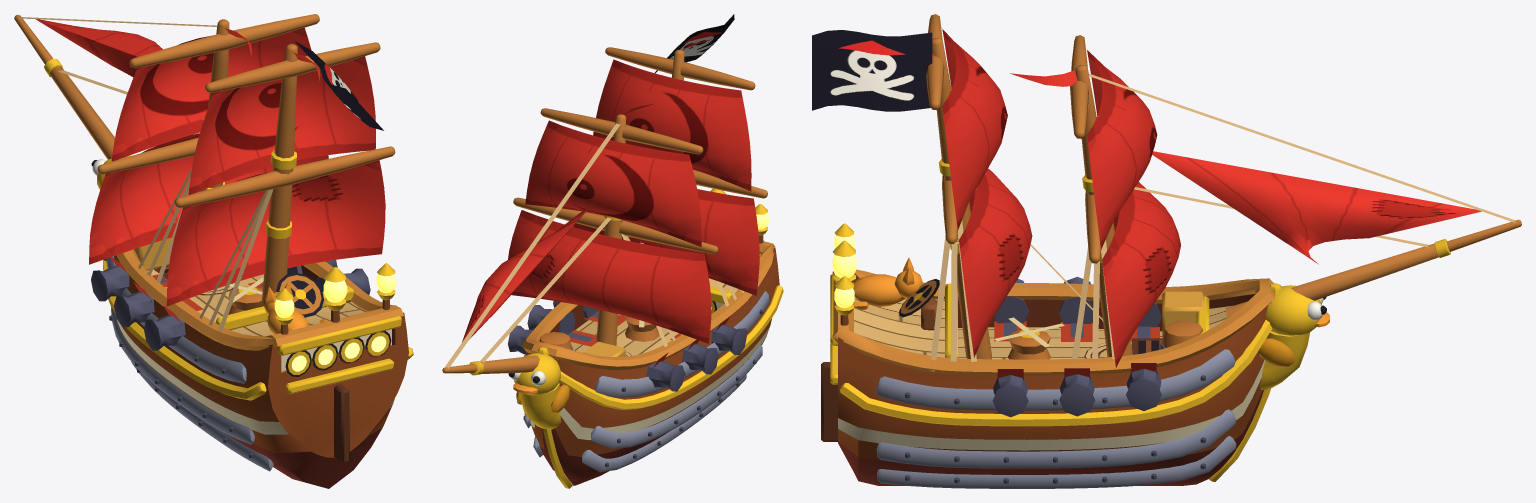
Rendered from player_brigantine.glb.
3 renders of one model, left to right at view 1: azimuth 30°, elevation 25°; view 2: azimuth 150°, elevation 25°; view 3: azimuth 270°, elevation 25°, orthographic. The views are drawn at different scales.
Parts seen in each view (by area): view 1: Hull, Rigging, Sail1_0, Sail1_1, Sail0_1, Sail0_0, Guns3, Plating3, Jib, Plating2, Flag, Plating1; view 2: Hull, Sail0_0, Sail0_1, Rigging, Sail1_1, Sail1_0, Guns3, Plating3, Jib, Plating2, Plating1, Flag (+1 smaller); view 3: Hull, Rigging, Jib, Plating3, Flag, Sail0_0, Sail1_0, Sail0_1, Sail1_1, Plating2, Guns3, Plating1 (+1 smaller).
Part boxes in pixels (x1,y1,x2,y2): Hull: (91, 155, 413, 488); Rigging: (14, 14, 395, 341); Sail1_0: (166, 160, 385, 306); Sail1_1: (188, 56, 375, 195); Sail0_1: (111, 28, 311, 161); Sail0_0: (89, 133, 328, 264); Guns3: (91, 260, 370, 350); Plating3: (104, 256, 273, 471); Jib: (36, 19, 162, 77); Plating2: (109, 316, 268, 466); Flag: (295, 41, 383, 130); Plating1: (109, 307, 251, 442); Hull: (508, 188, 783, 488); Sail0_0: (508, 210, 711, 343); Sail0_1: (525, 120, 701, 247); Rigging: (442, 39, 767, 375); Sail1_1: (593, 59, 751, 191); Sail1_0: (573, 189, 759, 295); Guns3: (508, 301, 746, 391); Plating3: (524, 291, 769, 472); Jib: (462, 204, 592, 341); Plating2: (523, 350, 760, 471); Plating1: (524, 347, 762, 448); Flag: (655, 14, 734, 73); Hull: (821, 223, 1329, 485); Rigging: (926, 14, 1521, 371); Jib: (1152, 151, 1481, 264); Plating3: (876, 349, 1236, 488); Flag: (812, 30, 932, 111); Sail0_0: (1102, 182, 1180, 367); Sail1_0: (959, 168, 1032, 357); Sail0_1: (1087, 50, 1157, 249); Sail1_1: (942, 29, 1007, 229); Plating2: (877, 415, 1236, 488); Guns3: (992, 276, 1161, 417); Plating1: (877, 411, 1235, 468).
Size of the model in its own units: 1.43 by 2.45 by 3.47.
Materials: 9 (4 with a texture image).
